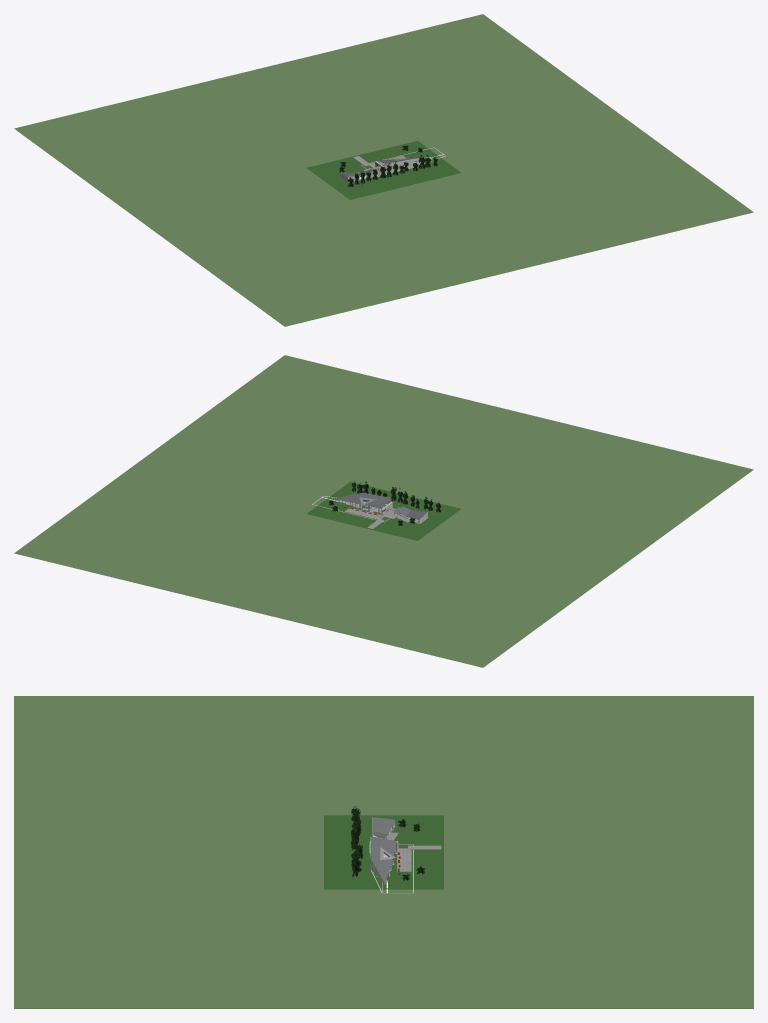
Rendered from design2121_v17.glb.
3 views of the same model, one above another, from view 1: azimuth 30°, elevation 25°; view 2: azimuth 150°, elevation 25°; view 3: azimuth 270°, elevation 25° (orthographic). The views are drawn at different scales.
Parts seen in each view (by area): view 1: SM_Site_FarGround_North, SM_Site_FarGround_South, SM_Site_FarGround_West, SM_Site_FarGround_East, SM_Site_Ground; view 2: SM_Site_FarGround_South, SM_Site_FarGround_North, SM_Site_FarGround_West, SM_Site_FarGround_East, SM_Site_Ground; view 3: SM_Site_FarGround_North, SM_Site_FarGround_South, SM_Site_FarGround_East, SM_Site_FarGround_West, SM_Site_Ground, SM_Museum_Roof.
Part boxes in pixels (x1,y1,x2,y2): SM_Site_FarGround_North: (171, 129, 753, 326); SM_Site_FarGround_South: (14, 14, 595, 211); SM_Site_FarGround_West: (127, 168, 349, 243); SM_Site_FarGround_East: (418, 97, 639, 172); SM_Site_Ground: (307, 140, 461, 199); SM_Site_FarGround_South: (14, 470, 596, 667); SM_Site_FarGround_North: (172, 355, 753, 552); SM_Site_FarGround_West: (418, 509, 640, 584); SM_Site_FarGround_East: (128, 438, 349, 513); SM_Site_Ground: (306, 481, 460, 540); SM_Site_FarGround_North: (14, 696, 323, 1008); SM_Site_FarGround_South: (444, 696, 753, 1008); SM_Site_FarGround_East: (324, 889, 443, 1008); SM_Site_FarGround_West: (324, 696, 443, 815); SM_Site_Ground: (324, 815, 443, 889); SM_Museum_Roof: (371, 836, 396, 883).
Bounding box in the file's own units: 400 × 19.91 × 400.
53 materials, 12 textured.
